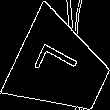L_SE: (34, 43, 88, 93)
